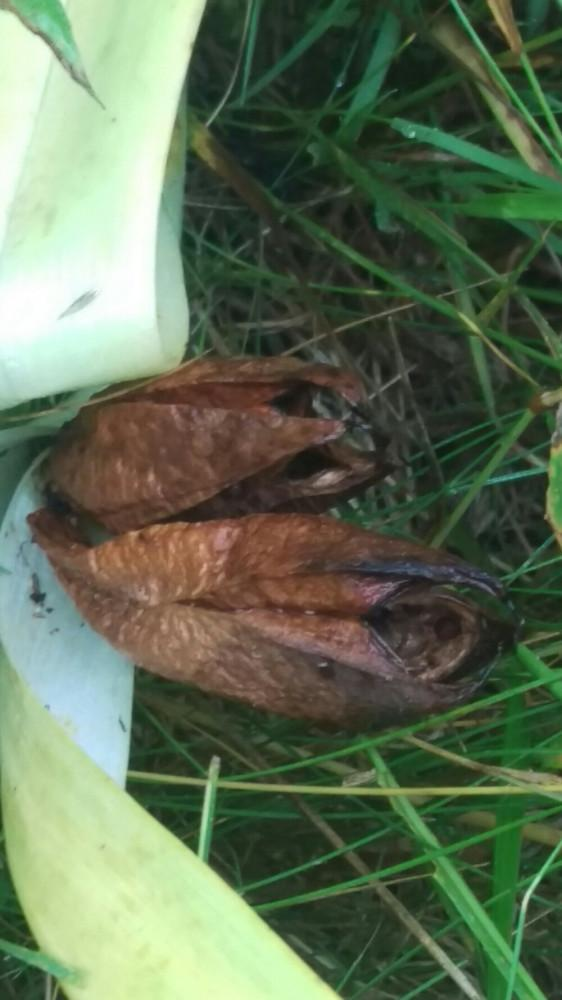Colchicum autumnale L: (33, 120, 494, 860)
